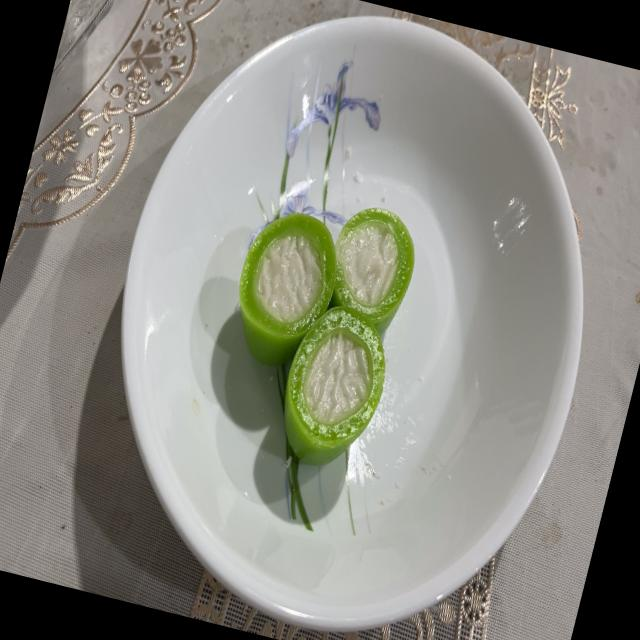nona-manis: (284, 306, 385, 466), (239, 212, 335, 366), (329, 207, 414, 335)
